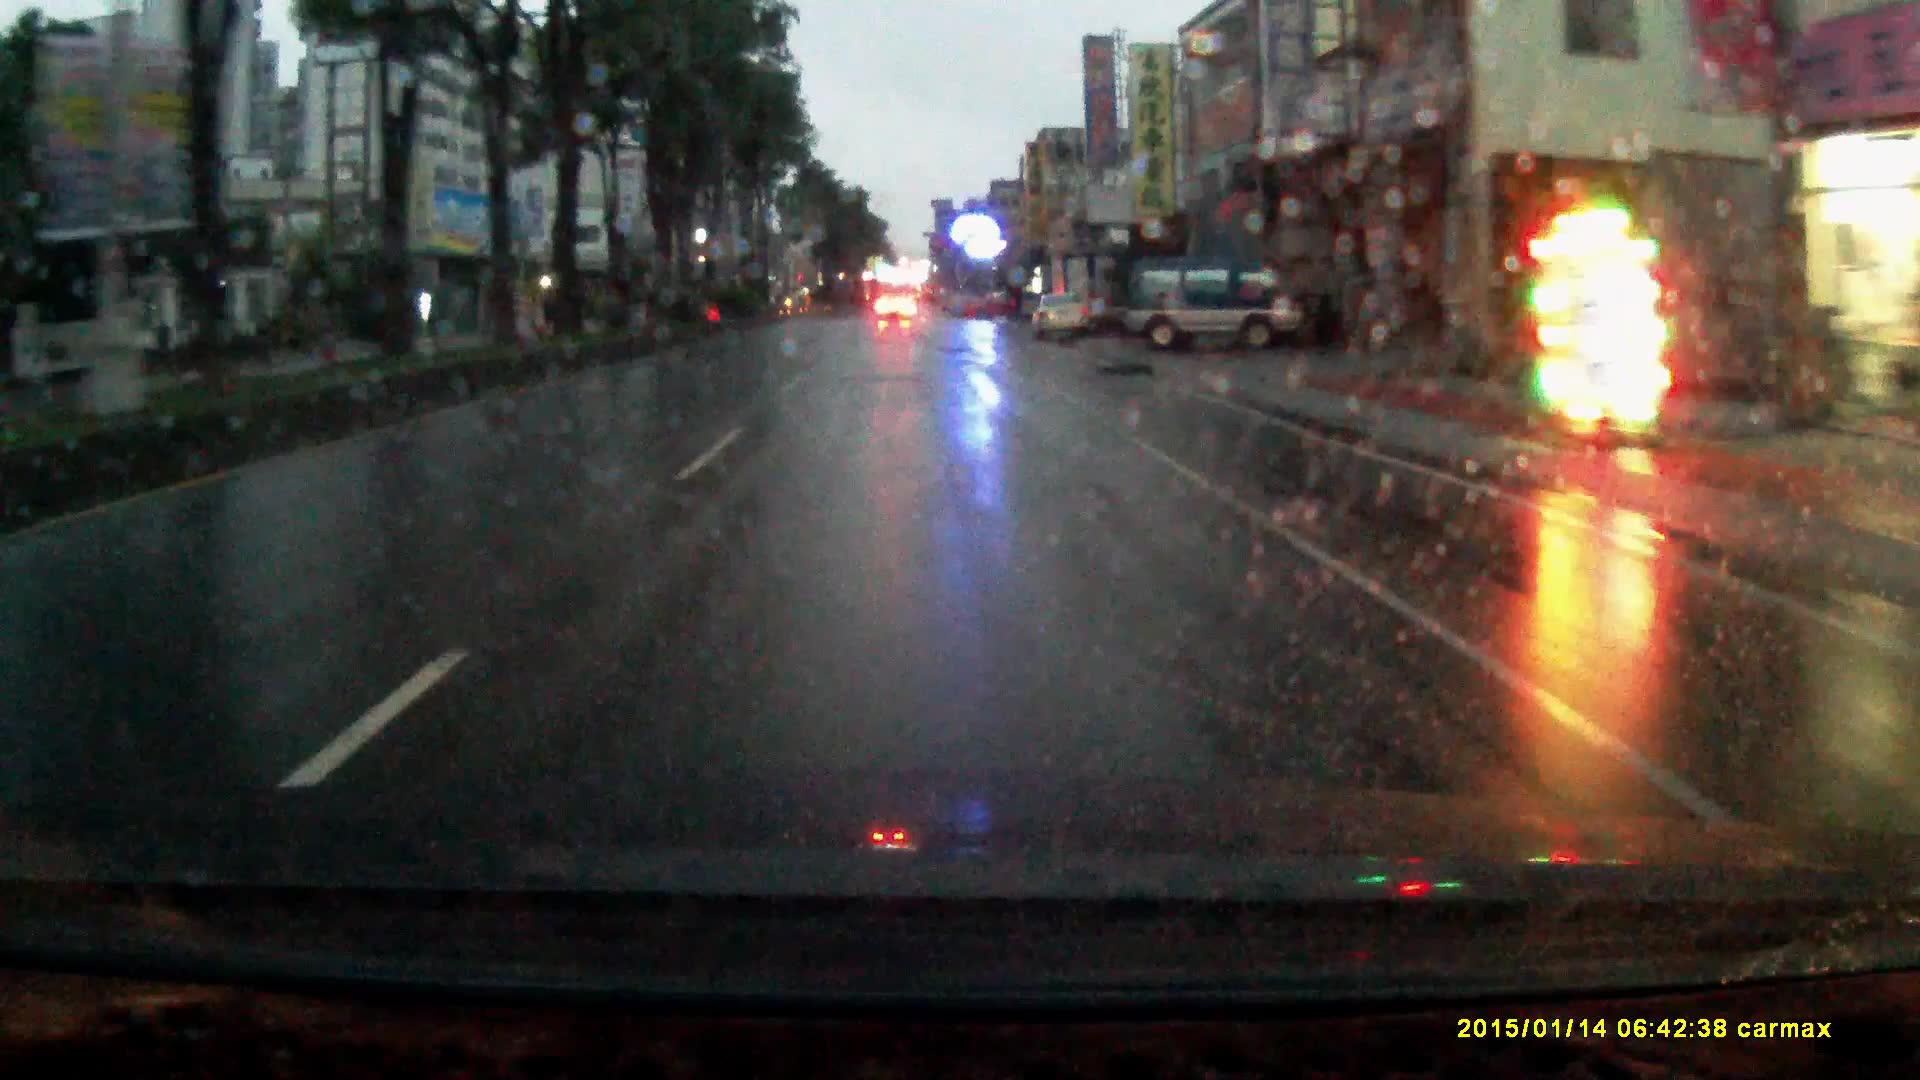vehicle: (1120, 257, 1323, 357), (1048, 249, 1121, 338), (1031, 290, 1095, 345), (876, 293, 915, 324)
